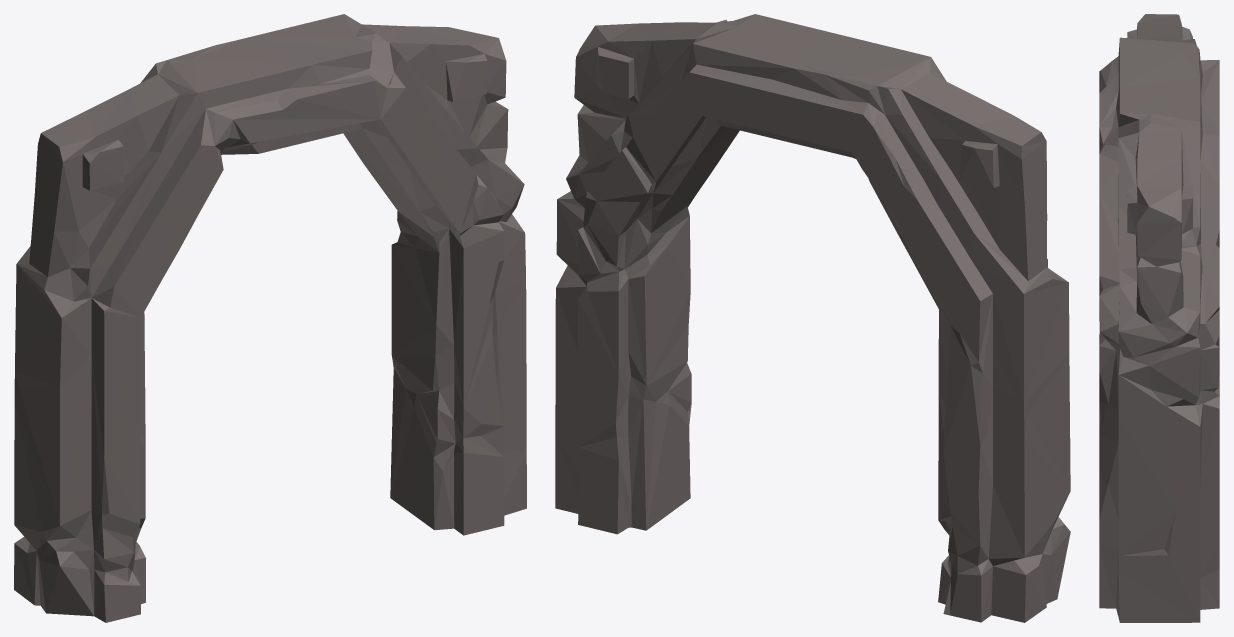
The model's file is Frame_00.FBX.
The picture shows the model from 3 angles, left to right: view 1: azimuth 30°, elevation 25°; view 2: azimuth 150°, elevation 25°; view 3: azimuth 270°, elevation 25°; orthographic projection. The views are drawn at different scales.
Visible parts, largest first — view 1: Frame_00; view 2: Frame_00; view 3: Frame_00.
Boxes of the visible parts, box(x1,y1,x2,y2) form: Frame_00: box(14, 14, 526, 622); Frame_00: box(555, 14, 1070, 622); Frame_00: box(1099, 14, 1219, 622).
Bounding box in the file's own units: 5.32 × 5.38 × 1.33.
